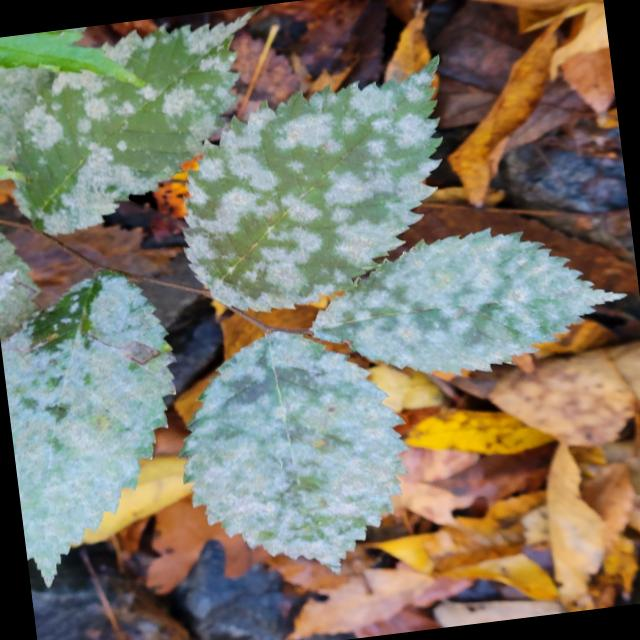powdery_mildew: (185, 63, 439, 311), (1, 272, 173, 585), (184, 332, 406, 570), (15, 16, 247, 233), (313, 229, 622, 374)
